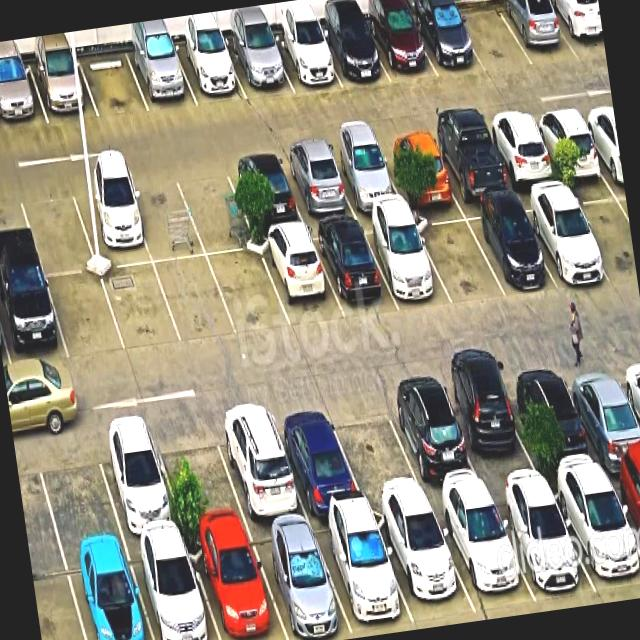car: (390, 514, 468, 632), (327, 520, 402, 640), (220, 430, 300, 542), (452, 502, 526, 622), (569, 483, 640, 606), (264, 529, 342, 640), (514, 492, 584, 614), (396, 396, 471, 506), (104, 448, 180, 556), (196, 538, 275, 640), (289, 424, 358, 537), (518, 370, 586, 480), (456, 387, 526, 492), (539, 190, 606, 296), (376, 213, 443, 314), (575, 369, 640, 472), (483, 198, 548, 300), (76, 170, 145, 265), (138, 551, 211, 640), (70, 560, 151, 640), (444, 117, 506, 218), (389, 119, 451, 219), (324, 218, 386, 318), (130, 17, 191, 118), (265, 232, 331, 324), (230, 150, 297, 239), (542, 104, 602, 202), (494, 113, 554, 211), (0, 278, 62, 367), (180, 11, 238, 106), (230, 3, 286, 98), (277, 0, 333, 95), (323, 0, 382, 90), (32, 31, 89, 120), (336, 136, 394, 222), (372, 0, 429, 82), (289, 143, 345, 226), (418, 0, 474, 76), (0, 38, 38, 130), (501, 0, 560, 57)
free: (41, 446, 120, 564), (166, 436, 239, 546), (341, 414, 417, 516), (426, 215, 496, 308), (81, 23, 143, 122), (136, 167, 198, 264), (52, 272, 119, 361), (106, 258, 170, 350), (188, 158, 250, 251), (24, 192, 89, 278), (213, 245, 276, 332), (161, 252, 222, 336), (459, 0, 518, 69)
